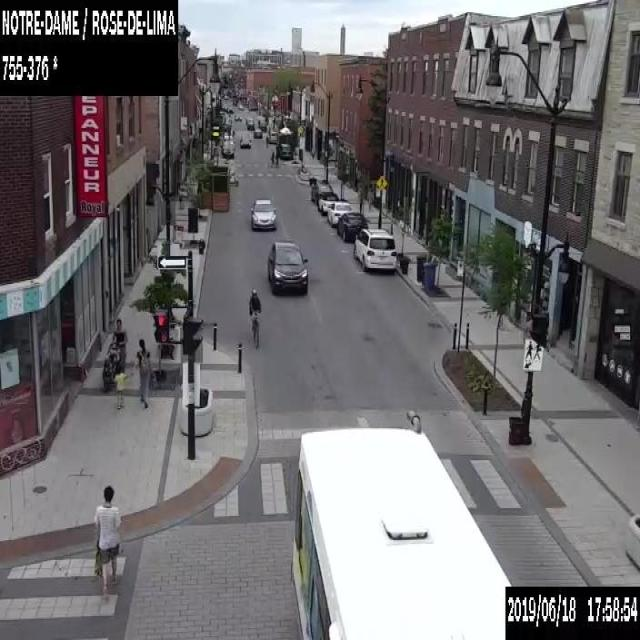bus: (289, 408, 513, 639)
cyclist: (248, 286, 260, 349)
pedestrian: (93, 486, 120, 602), (101, 317, 127, 391), (131, 338, 155, 409), (112, 364, 131, 408), (269, 148, 274, 166), (274, 146, 278, 166), (265, 134, 267, 146)
vehicle: (267, 240, 307, 294), (352, 228, 396, 274), (336, 211, 367, 240), (250, 198, 276, 228), (327, 201, 352, 224), (311, 179, 332, 203), (318, 192, 339, 214), (277, 142, 292, 159), (220, 142, 233, 156), (239, 134, 250, 148), (268, 131, 278, 142), (223, 138, 233, 148), (253, 127, 262, 138), (246, 118, 254, 128), (233, 112, 241, 120), (224, 130, 232, 138), (259, 122, 266, 130), (226, 106, 233, 112), (238, 104, 243, 108)
